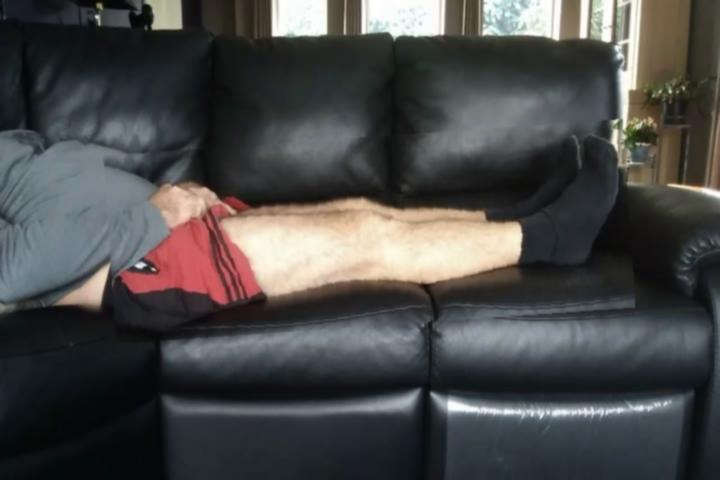lower_body: (107, 129, 634, 336)
